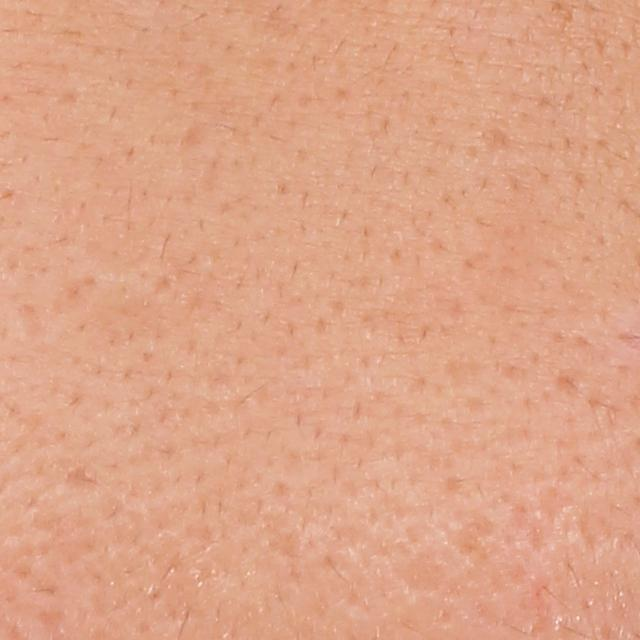atrophic_scar: (390, 547, 456, 604), (557, 369, 588, 396)
